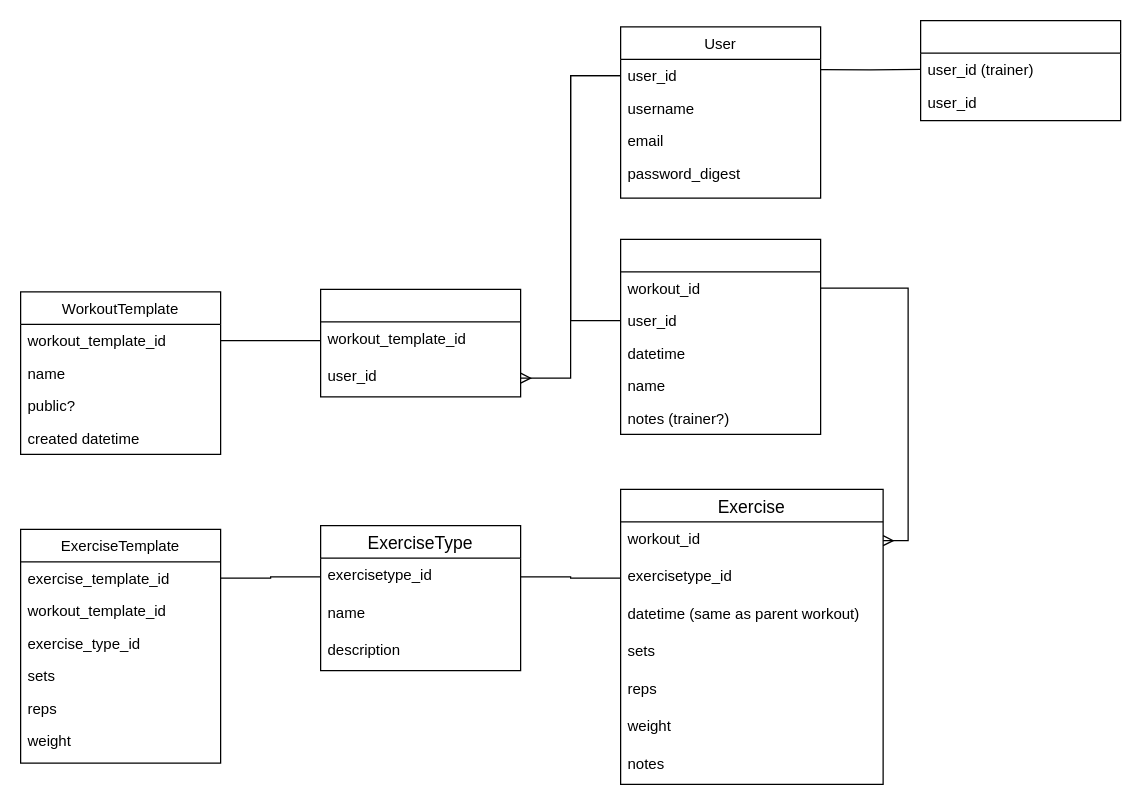
The diagram is 1141 pixels wide and 805 high, and some of its shapes have lost their labels. The box of each missing label's shape, as (x1, y1, x2, y2) in pixels:
TrainerMap: (919, 19, 1121, 121)
Workouts: (619, 238, 821, 434)
WorkoutTemplateMap: (319, 288, 521, 397)
